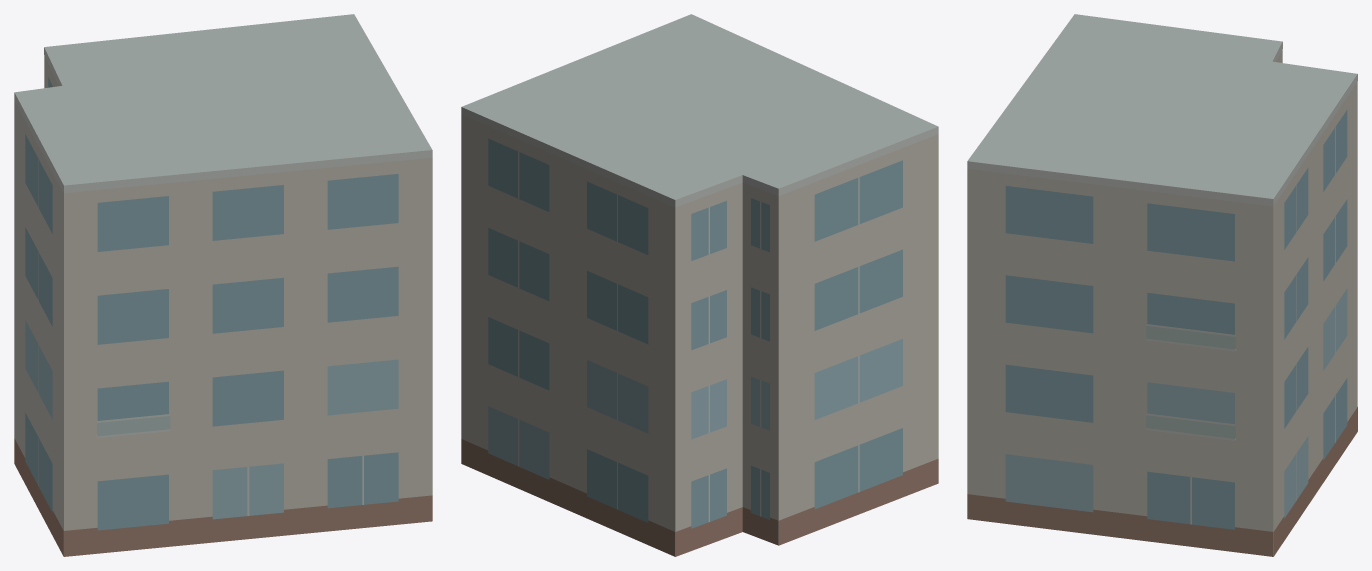
The model's file is survey-upis-32880806.glb.
The picture shows the model from 3 angles, left to right: view 1: azimuth 30°, elevation 25°; view 2: azimuth 150°, elevation 25°; view 3: azimuth 270°, elevation 25°; orthographic projection. The views are drawn at different scales.
Visible parts, largest first — view 1: survey-upis-32880806.tmp; view 2: survey-upis-32880806.tmp; view 3: survey-upis-32880806.tmp.
Part boxes in pixels (<box>): survey-upis-32880806.tmp: <box>14,14,432,556</box>; survey-upis-32880806.tmp: <box>461,14,938,556</box>; survey-upis-32880806.tmp: <box>967,14,1357,556</box>.
Size of the model in its own units: 12.98 by 11.7 by 11.58.
